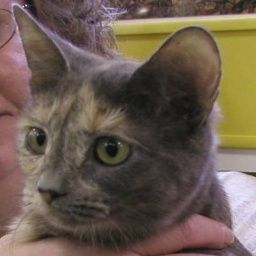cat: (13, 4, 234, 256)
